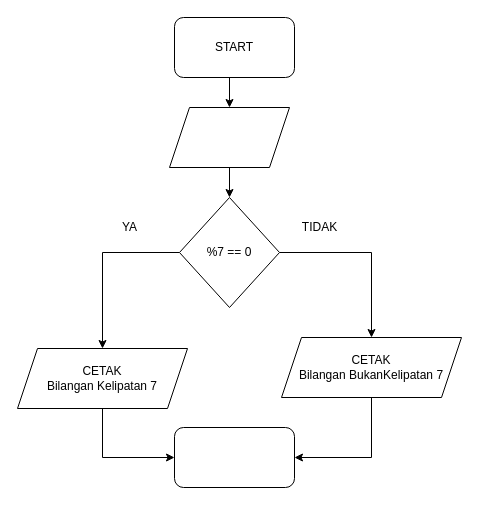
This 479x505 diagram has some shape labels left out. Here are the shapes that lost their labels. From the top down, the centre of each, then its label:
At point (229, 137): "Input Bilangan".
At point (234, 457): "END".
